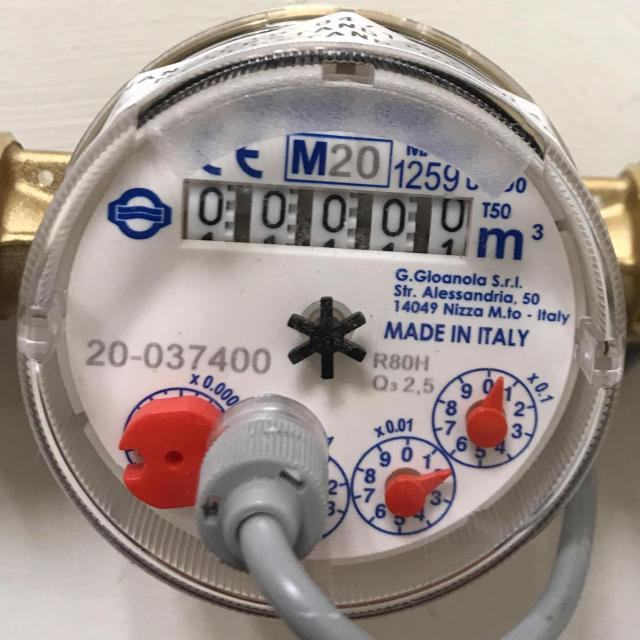gaz_meter: (60, 45, 618, 612)
indication: (183, 178, 472, 257)
